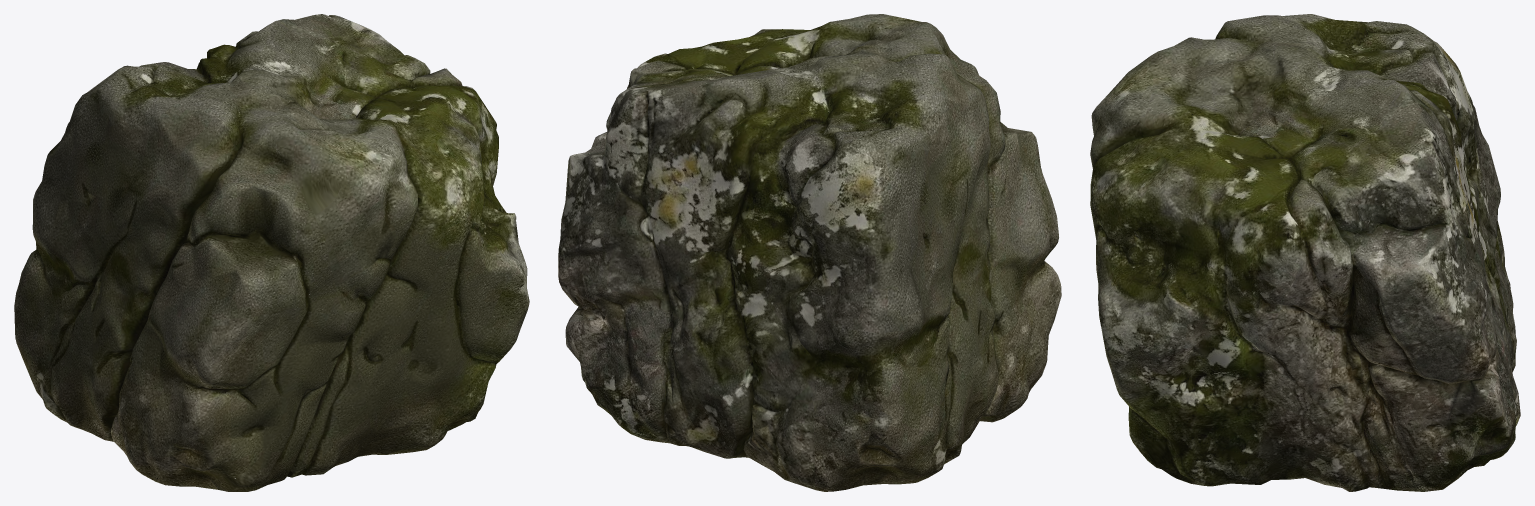
File: rock_a.glb
The picture shows the model from 3 angles, left to right: view 1: azimuth 30°, elevation 25°; view 2: azimuth 150°, elevation 25°; view 3: azimuth 270°, elevation 25°; orthographic projection. The views are drawn at different scales.
Visible parts, largest first — view 1: tripo_node_e0f053f8-8629-4a5b-919b-3255d167d1af; view 2: tripo_node_e0f053f8-8629-4a5b-919b-3255d167d1af; view 3: tripo_node_e0f053f8-8629-4a5b-919b-3255d167d1af.
Part boxes in pixels (x1=…): tripo_node_e0f053f8-8629-4a5b-919b-3255d167d1af: x1=14, y1=14, x2=529, y2=491; tripo_node_e0f053f8-8629-4a5b-919b-3255d167d1af: x1=558, y1=14, x2=1061, y2=491; tripo_node_e0f053f8-8629-4a5b-919b-3255d167d1af: x1=1090, y1=14, x2=1520, y2=491.
Size of the model in its own units: 0.9618 by 0.84 by 0.9079.
1 material, 1 textured.
